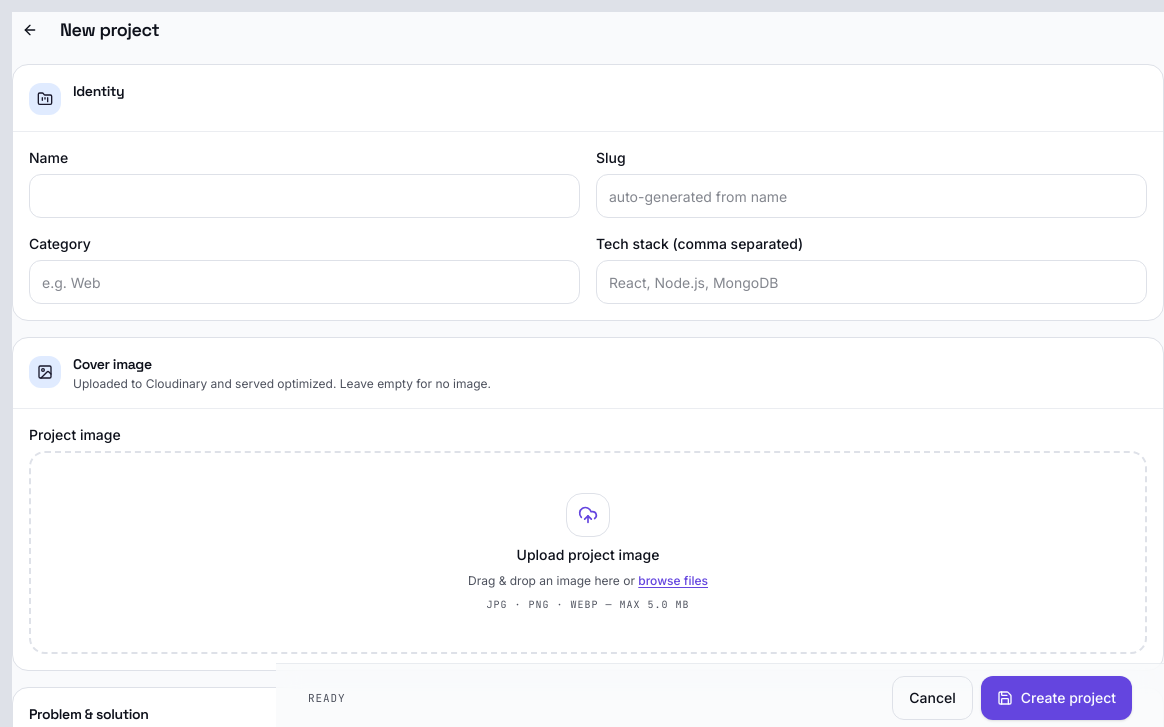
Test case: ProjectEditor — dirty state lifecycle › 2. editing a field marks the new project dirty
The image size is (1164, 727).
Type "Alpha" into the field labelled "Name" at (304, 196), box [29,174,580,218]
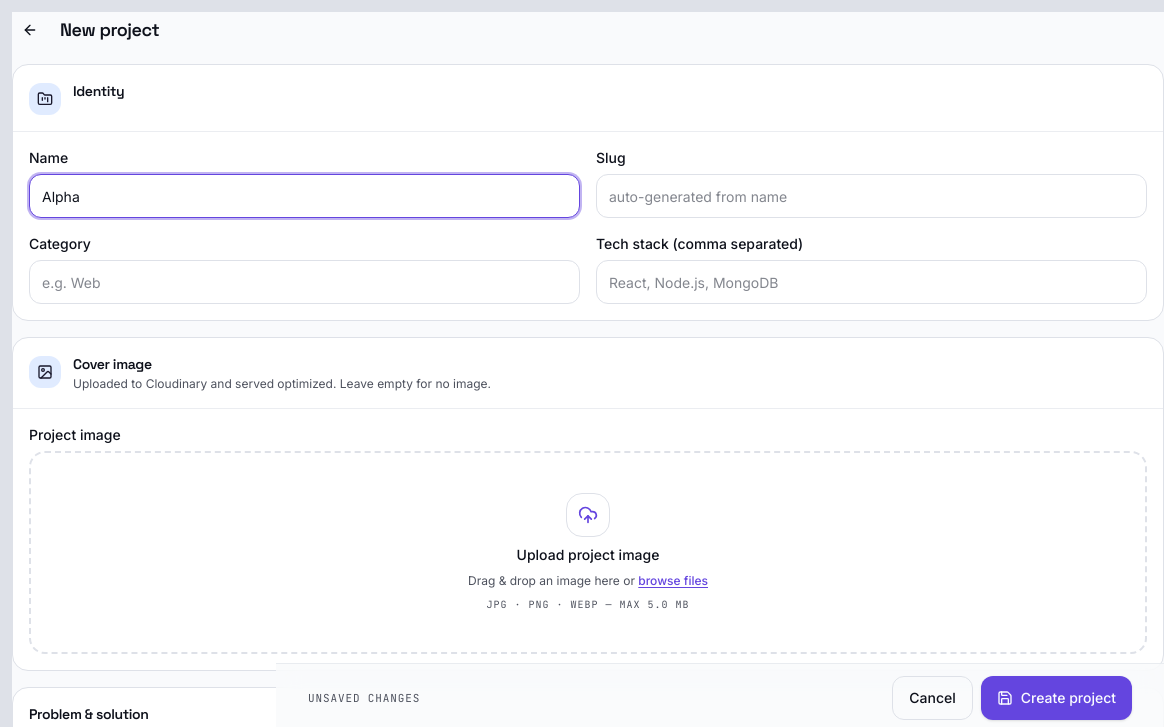
Expected: the text "Unsaved changes" is shown, [308,690,420,706]
